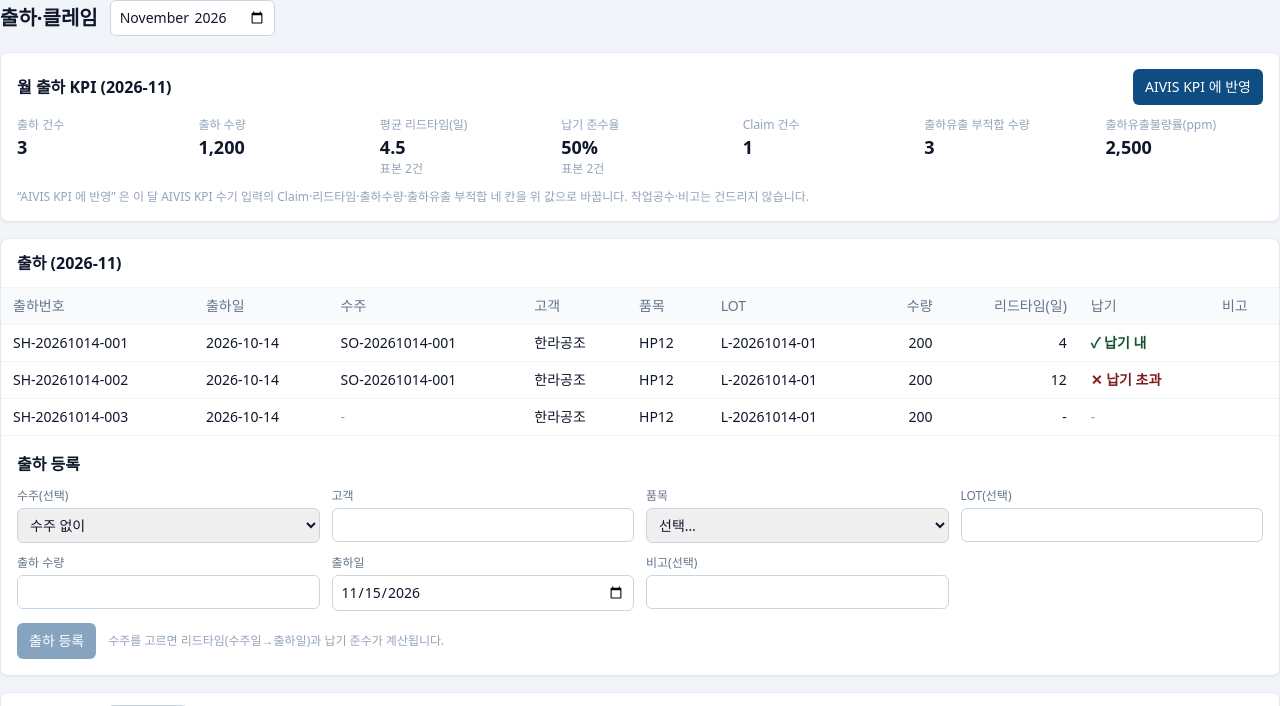
it: MesShippingPage — 월 KPI › 월을 바꾸면 그 달로 다시 조회하고 반영 메시지는 사라진다
expect the text "1,200" is shown: met, box [198,135,245,159]
Click the button with test id "kpi-reflect" at (1198, 87), box [1133,69,1263,105]
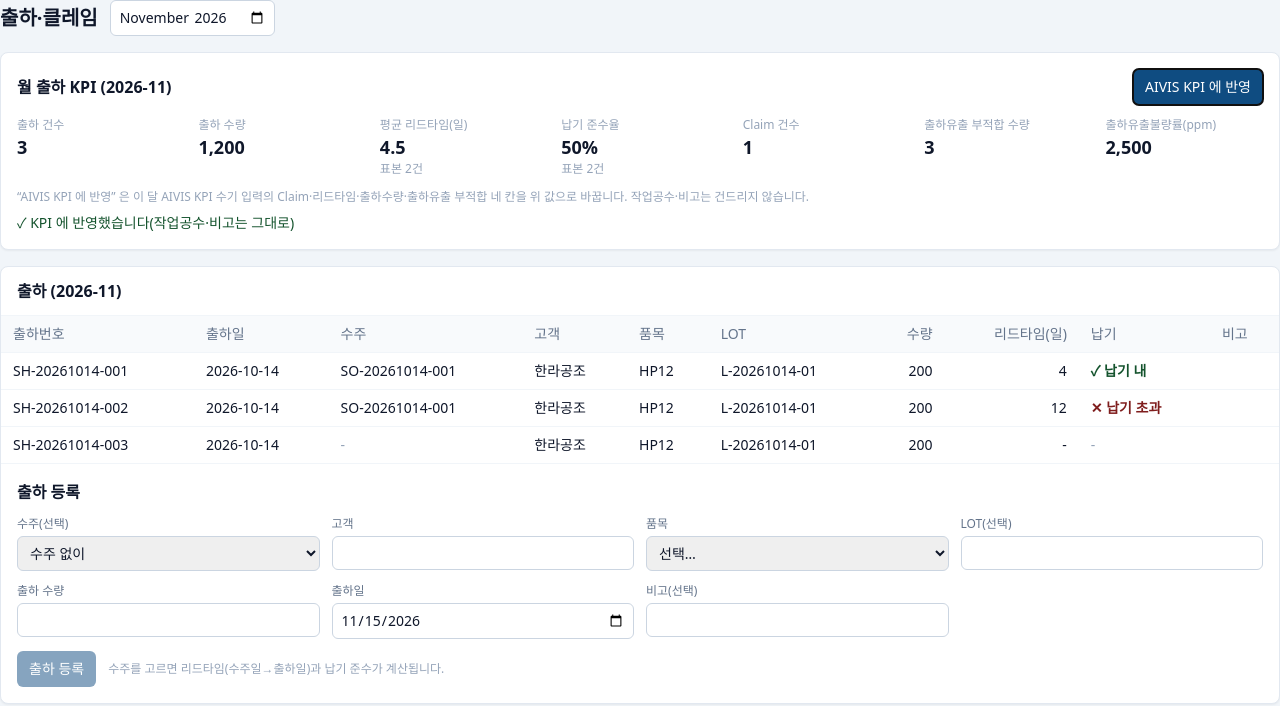
expect the message "✓ KPI 에 반영했습니다(작업공수·비고는 그대로)" is shown: met, box [17,213,294,232]
Replace the text in the field with test id "ship-period" with "2026-09" at (192, 18), box [110,0,275,36]
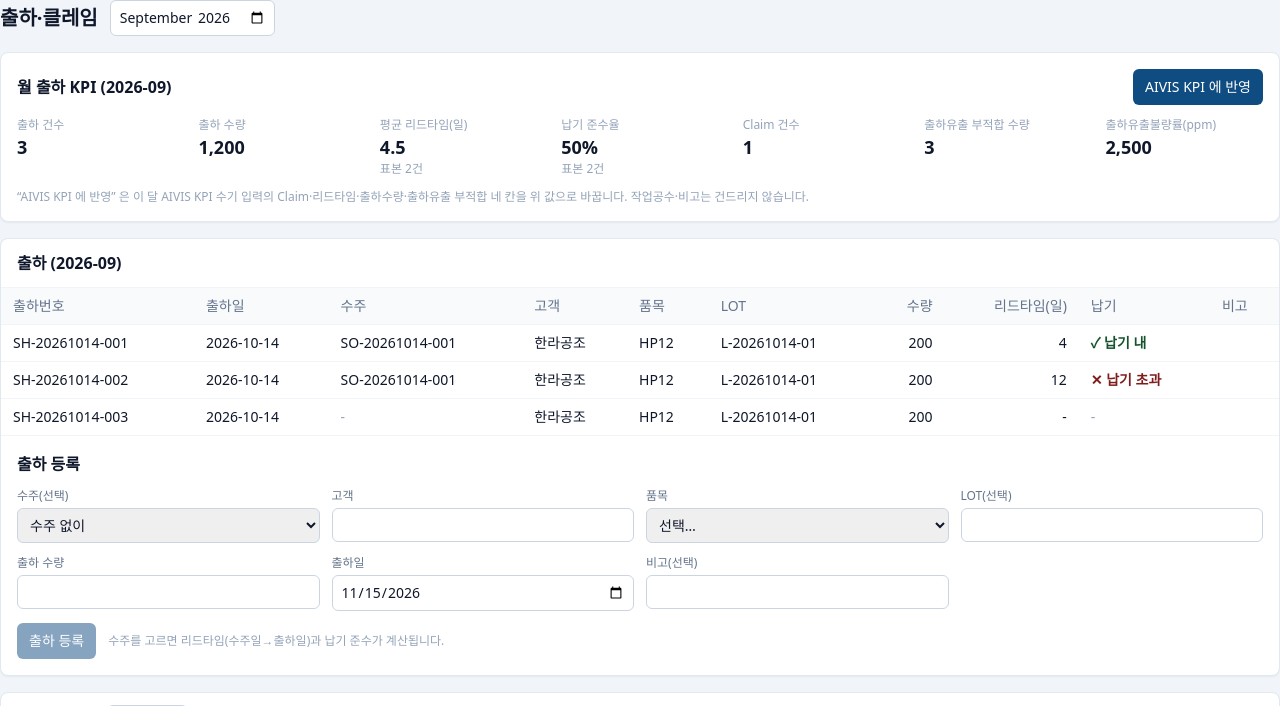
expect the message with test id "kpi-reflect-msg" is gone: met
